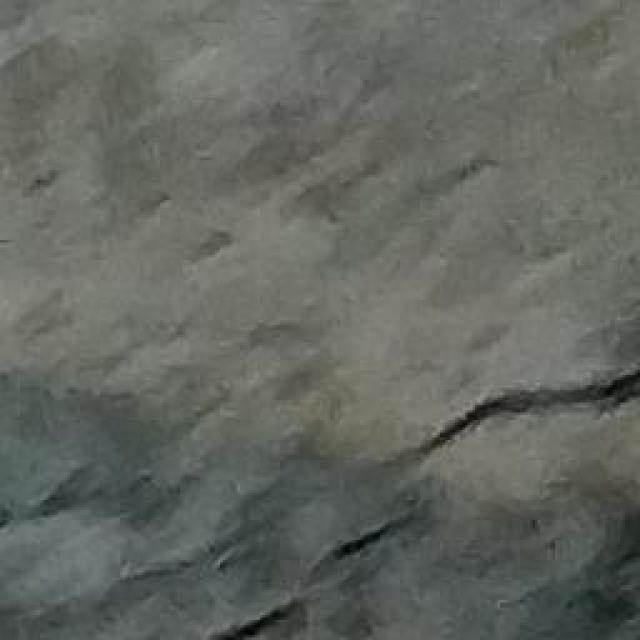Diagonal: (180, 332, 640, 640)
